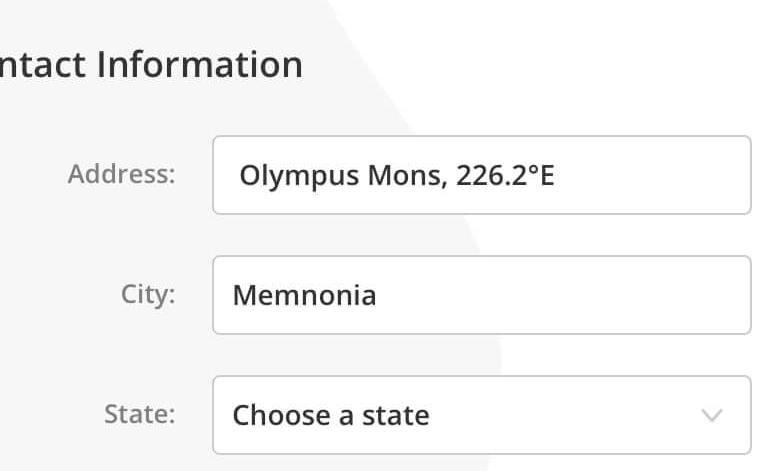field: (208, 254, 756, 335), (204, 135, 754, 214), (210, 377, 754, 456)
field_with_label: (63, 131, 758, 219), (106, 372, 761, 462), (122, 251, 760, 340)
